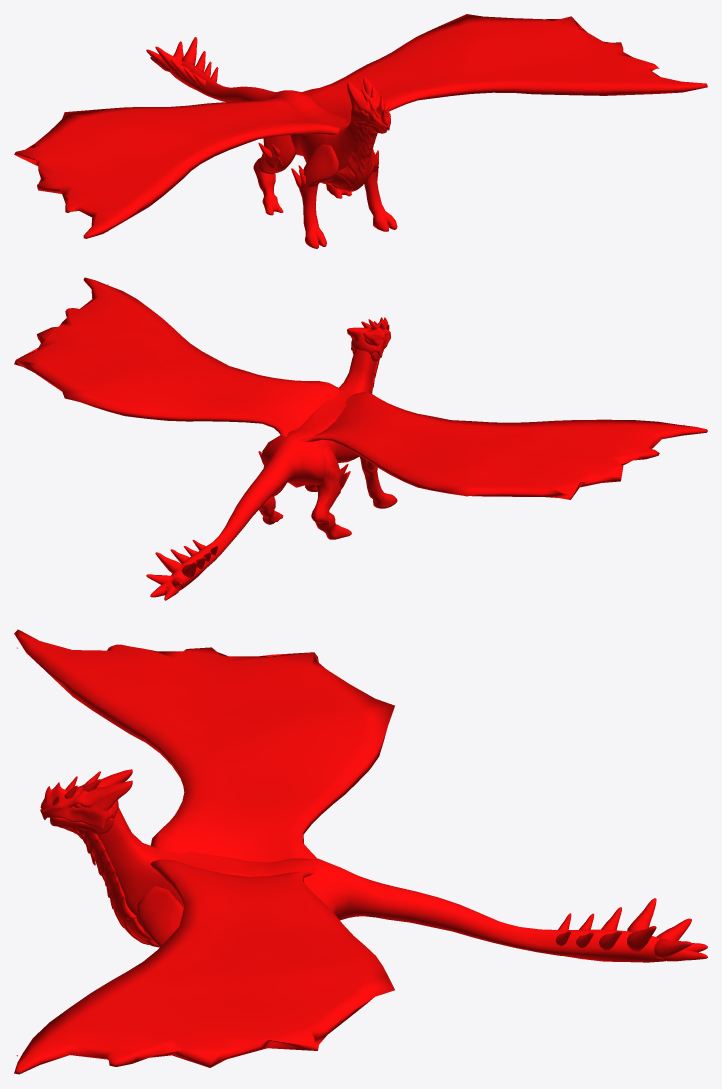
File: Dragon_Before_Animation.fbx
The picture shows the model from 3 angles, top to bottom: view 1: azimuth 30°, elevation 25°; view 2: azimuth 150°, elevation 25°; view 3: azimuth 270°, elevation 25°; orthographic projection. The views are drawn at different scales.
Parts seen in each view (by area): view 1: Object005; view 2: Object005; view 3: Object005.
Part boxes in pixels (left/top/right/bottom): Object005: left=14, top=14, right=707, bottom=248; Object005: left=14, top=277, right=707, bottom=600; Object005: left=14, top=629, right=707, bottom=1074.
Bounding box in the file's own units: 2140 × 528 × 1424.
